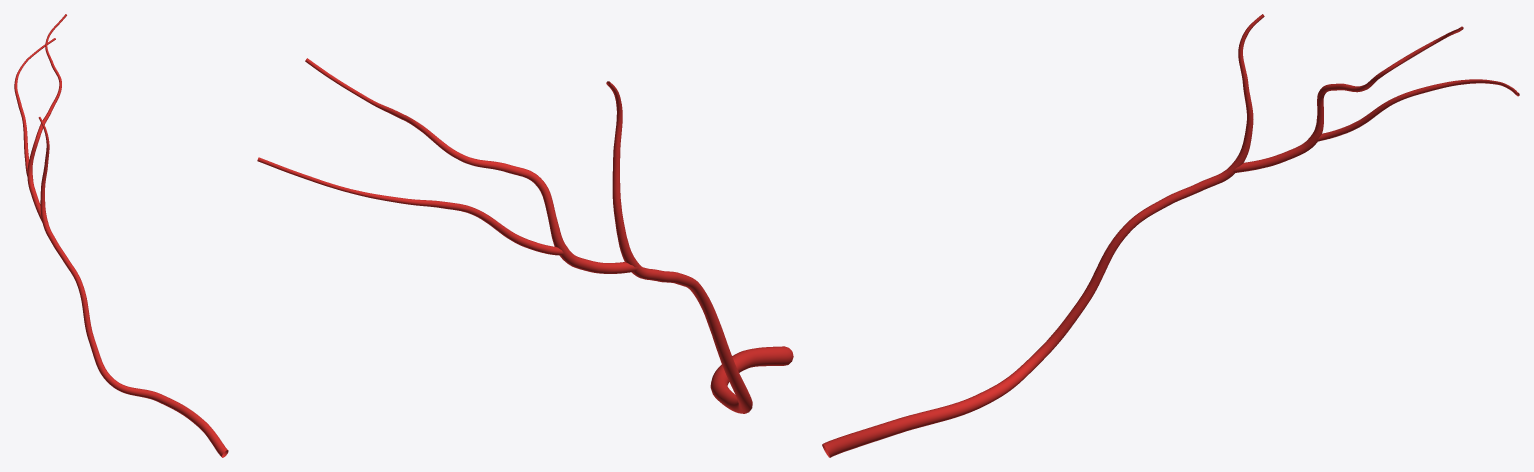
The model's file is circulatorio-parieto-occipital-artery-l.glb.
The picture shows the model from 3 angles, left to right: view 1: azimuth 30°, elevation 25°; view 2: azimuth 150°, elevation 25°; view 3: azimuth 270°, elevation 25°; orthographic projection. The views are drawn at different scales.
Visible parts, largest first — view 1: Parieto-occipital artery.l; view 2: Parieto-occipital artery.l; view 3: Parieto-occipital artery.l.
Part boxes in pixels (box(x1,y1,x2,y2)): Parieto-occipital artery.l: box(14, 14, 228, 457); Parieto-occipital artery.l: box(257, 58, 793, 413); Parieto-occipital artery.l: box(822, 14, 1519, 457).
Size of the model in its own units: 0.0168 by 0.0451 by 0.0618.
